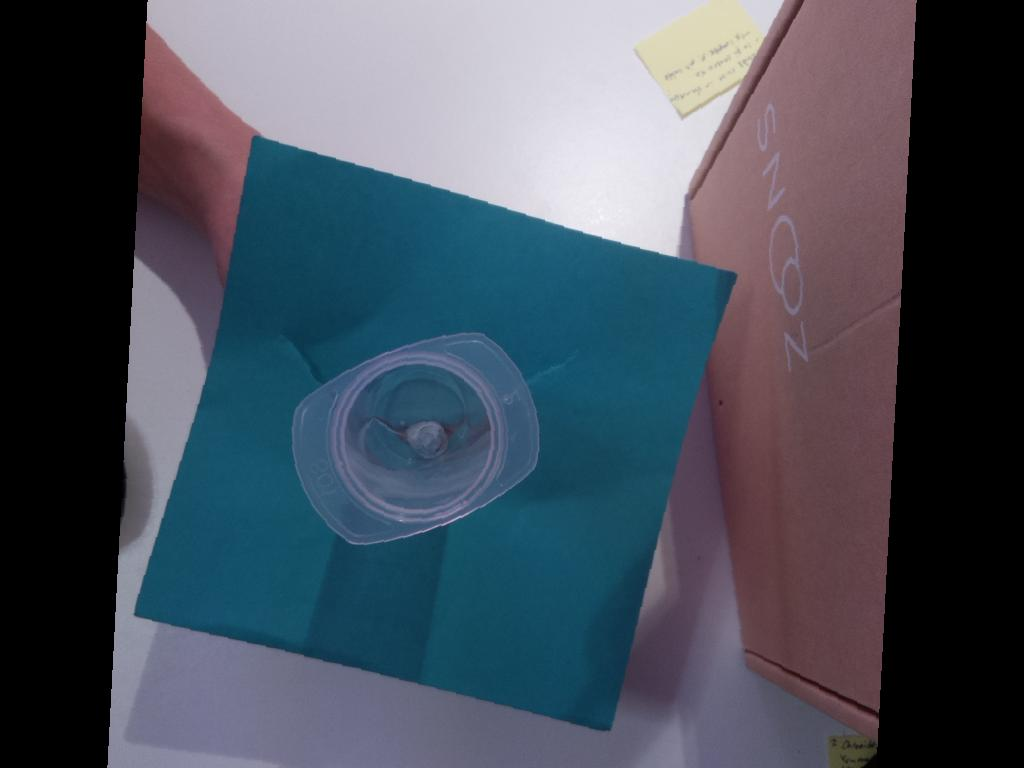clean: (269, 325, 554, 550)
